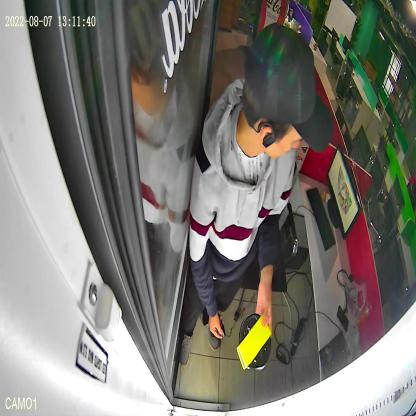yellow: (236, 314, 272, 372)
